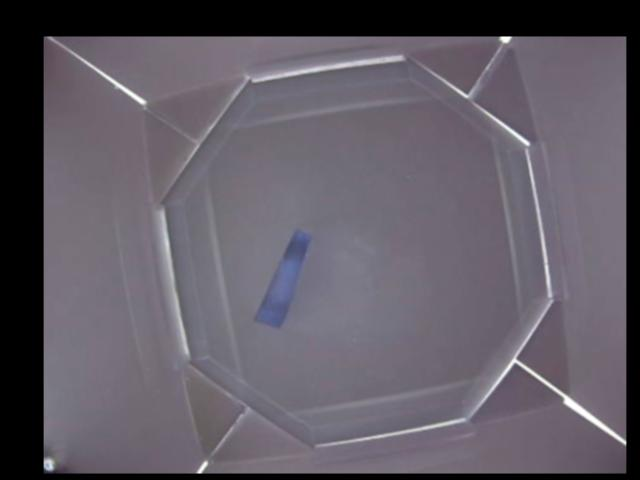Mooli: (253, 231, 312, 331)
